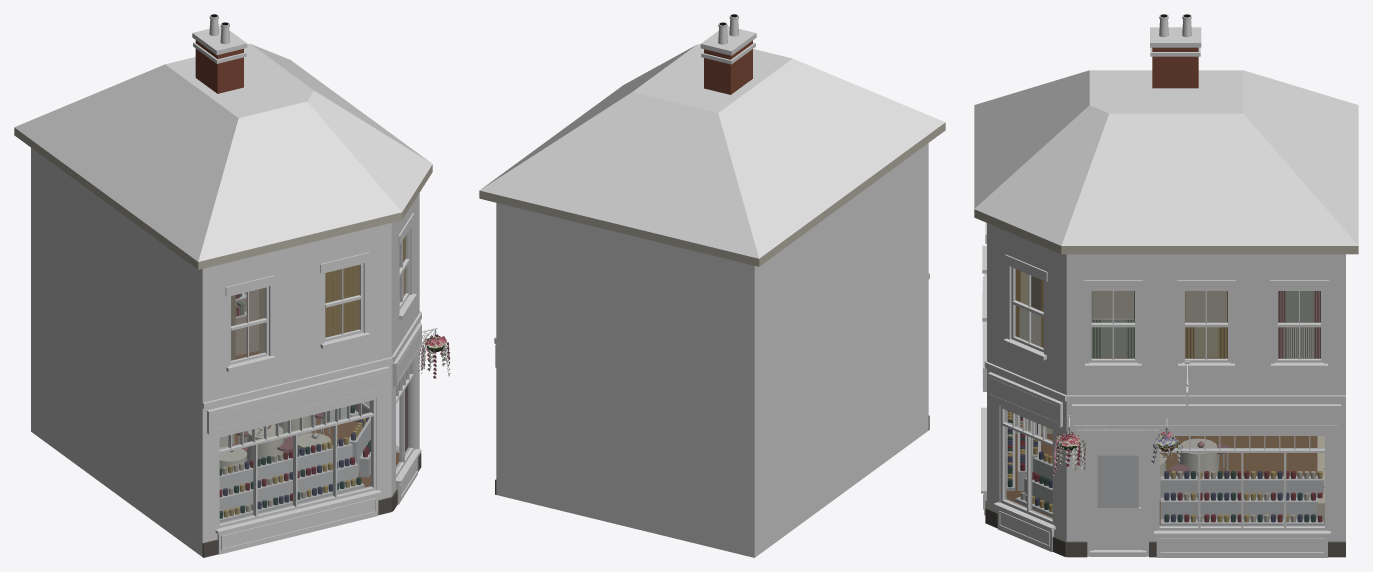
File: StraightEnd_Corner.glb
3 renders of one model, left to right at view 1: azimuth 30°, elevation 25°; view 2: azimuth 150°, elevation 25°; view 3: azimuth 270°, elevation 25°, orthographic. The views are drawn at different scales.
Visible parts, largest first — view 1: StraightEnd_Corner; view 2: StraightEnd_Corner; view 3: StraightEnd_Corner.
Part boxes in pixels (left/top/right/bottom): StraightEnd_Corner: left=14, top=14, right=450, bottom=557; StraightEnd_Corner: left=479, top=14, right=945, bottom=557; StraightEnd_Corner: left=974, top=14, right=1358, bottom=557.
Bounding box in the file's own units: 7.24 × 10.01 × 7.5.
